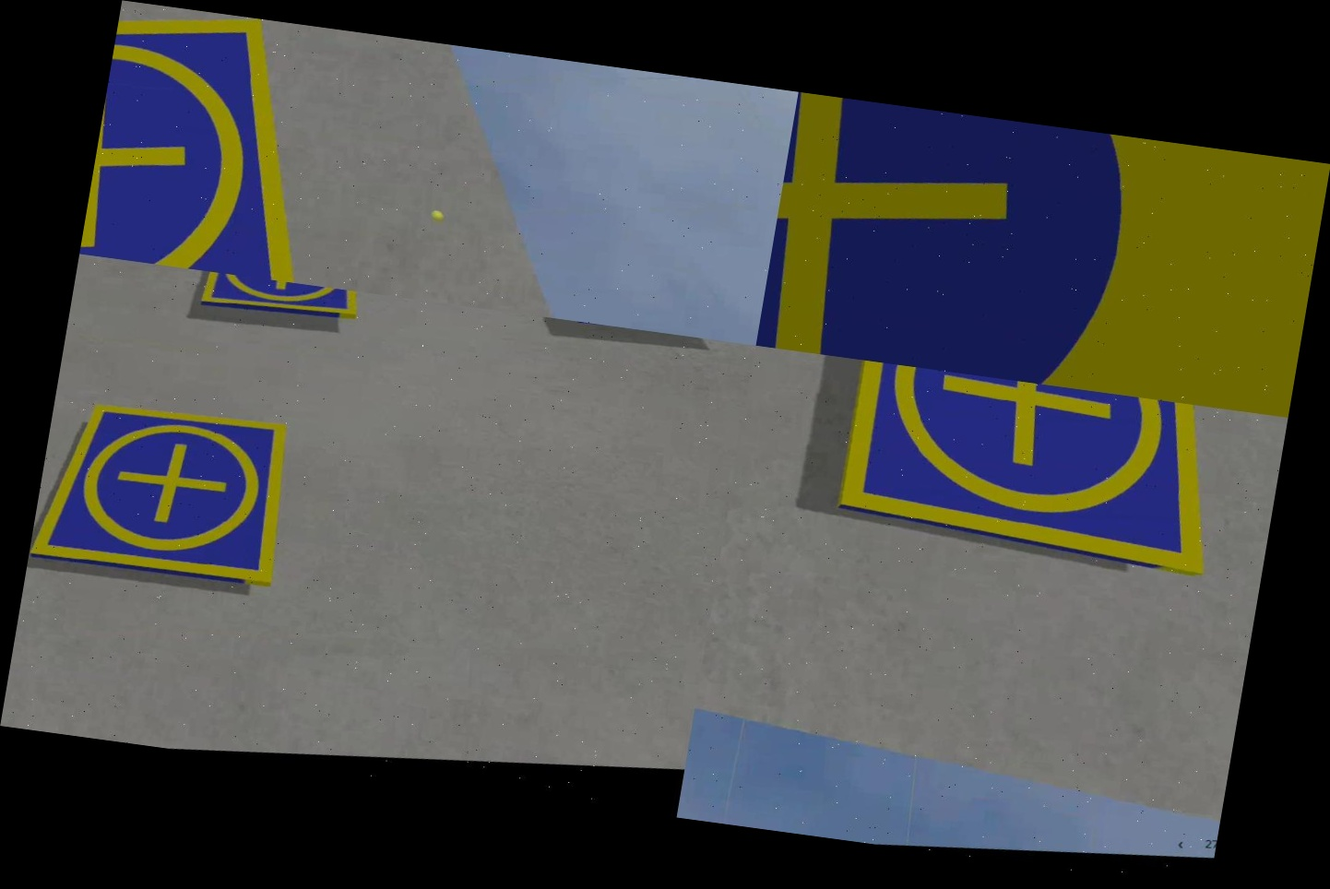large_base: (755, 92, 1330, 418)
small_base: (799, 356, 1238, 612), (79, 0, 358, 286), (24, 376, 315, 620), (192, 270, 364, 337)
